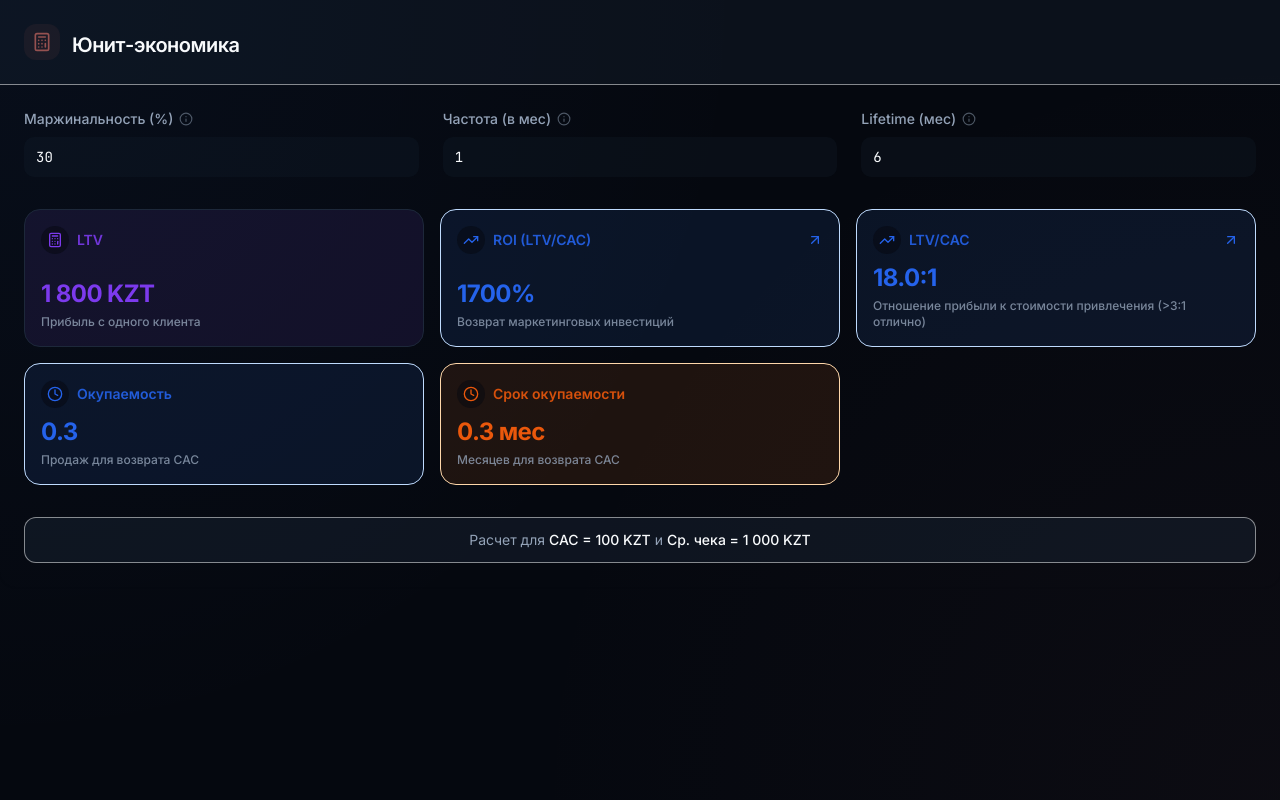
Test: UnitEconomics Component › updates calculations when inputs change
The width and height of the screenshot is (1280, 800).
Replace the text in the number field labelled "Маржинальность (%)" with "50" at {"x": 221, "y": 157}, box [24,137,419,177]
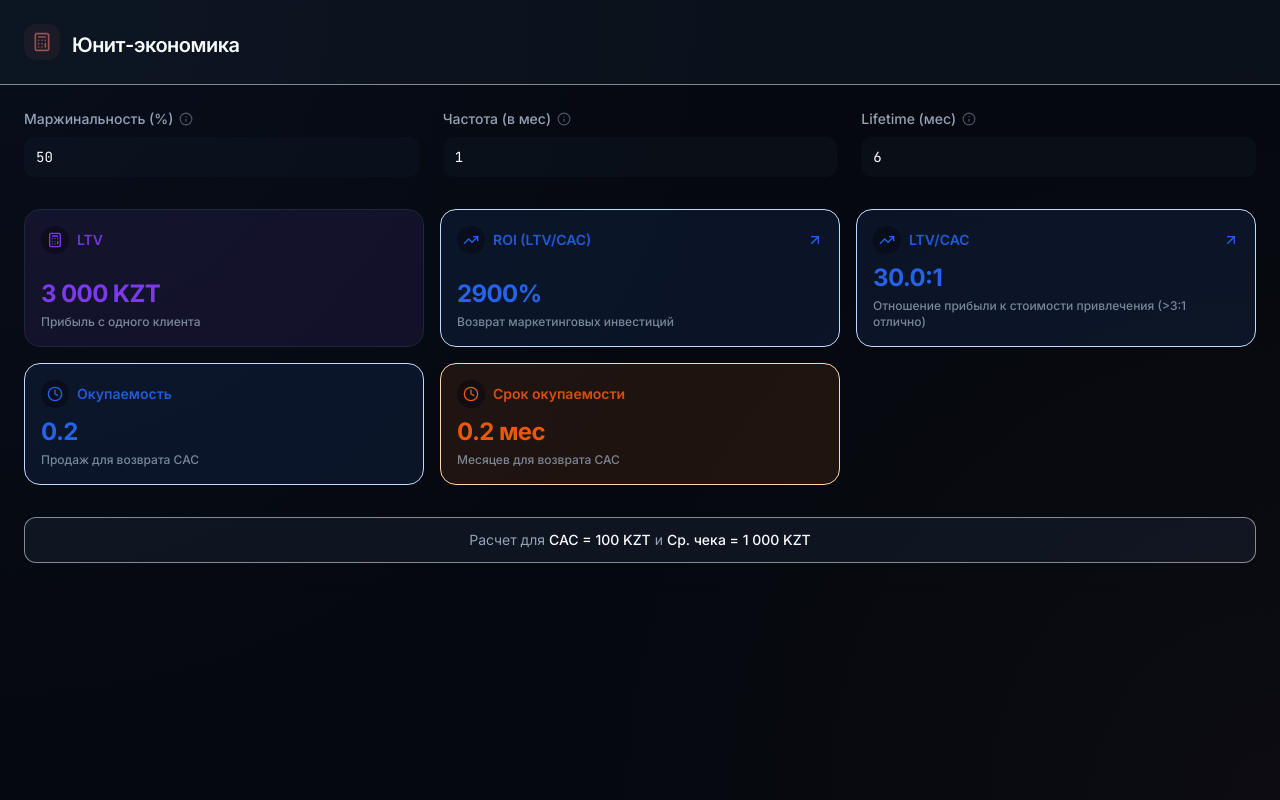
Now the text "3 000 KZT" is shown, box [41,279,160,308]
